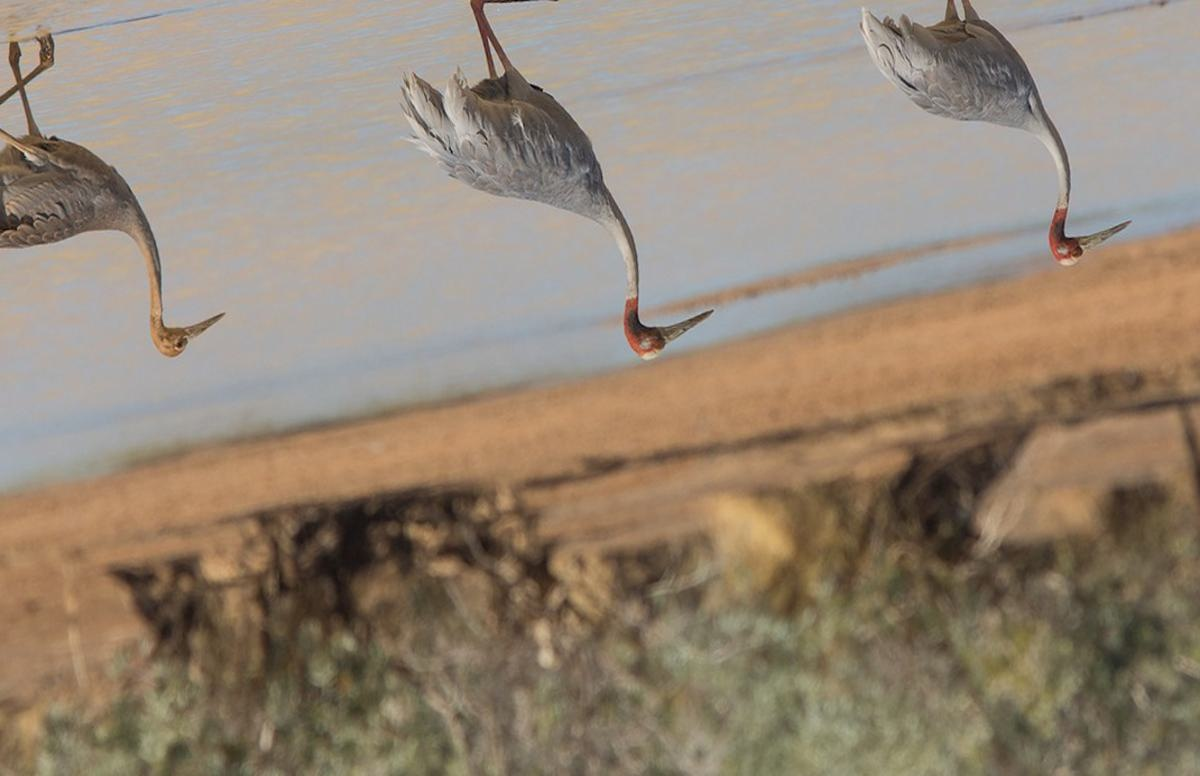crane: (360, 1, 729, 383), (810, 1, 1144, 278), (1, 28, 228, 363)
